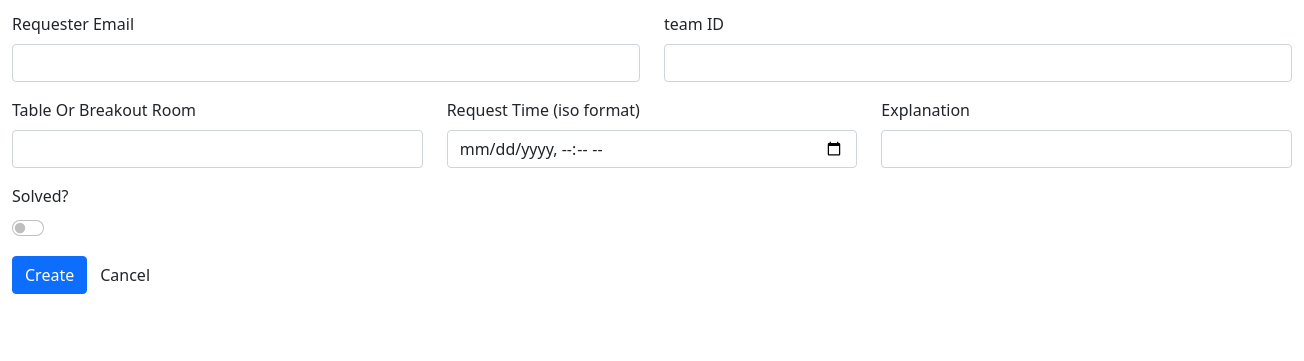
Test: HelpRequestForm tests › Correct Error messsages on bad input
Expected: the field with test id "HelpRequestForm-teamId" is shown, top-left (664, 44), bottom-right (1292, 82)
Type "bad-input" into the field with test id "HelpRequestForm-requesterEmail" at x=326, y=63, box top-left (12, 44), bottom-right (640, 82)
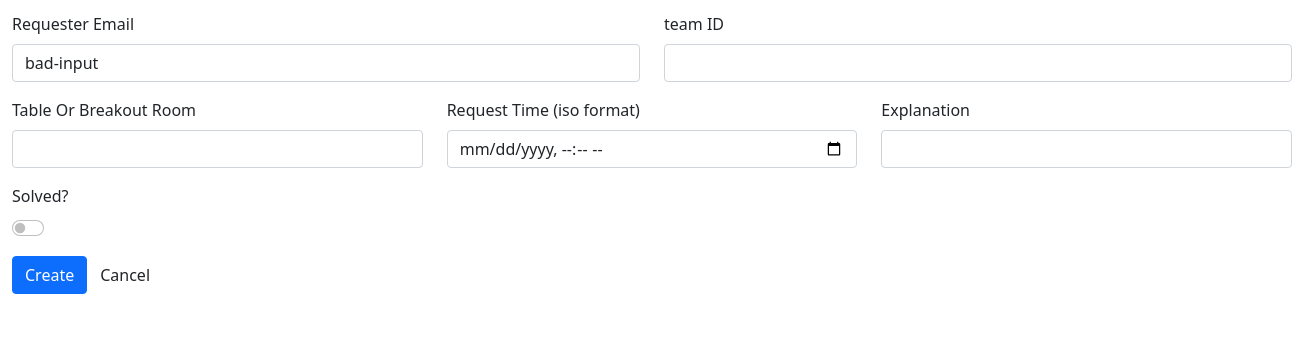
Type "bad-input" into the field with test id "HelpRequestForm-teamId" at x=978, y=63, box top-left (664, 44), bottom-right (1292, 82)
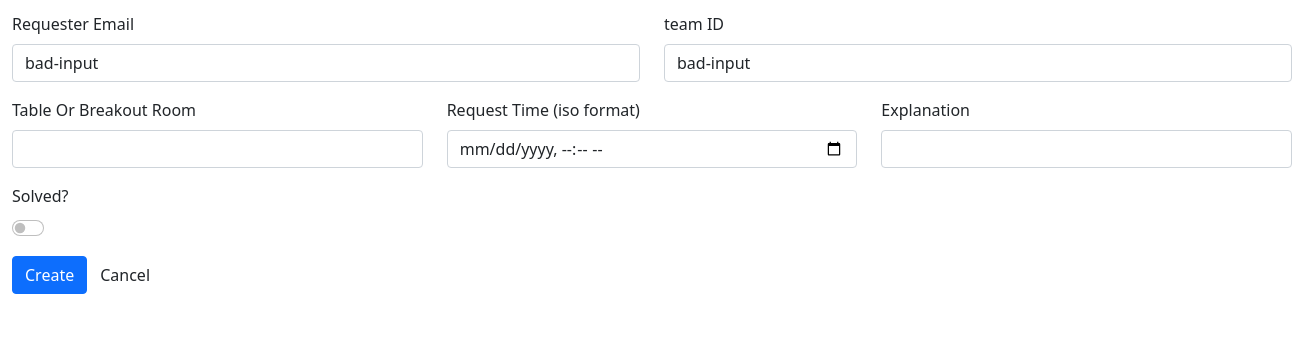
Click the button with test id "HelpRequestForm-submit" at x=50, y=275, box top-left (12, 256), bottom-right (87, 294)
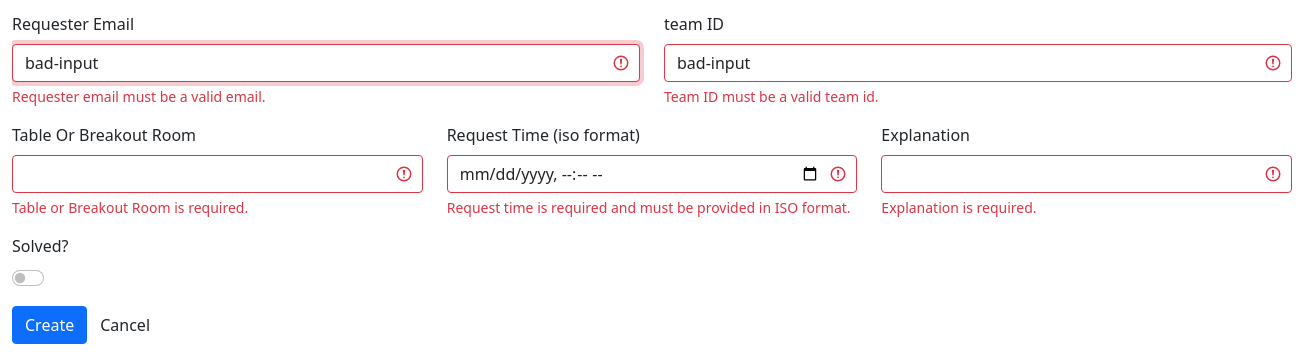
Now the text "Requester email must be a valid email." is shown, box top-left (12, 87), bottom-right (266, 106)
Now the text "Team ID must be a valid team id." is shown, box top-left (664, 87), bottom-right (879, 106)
